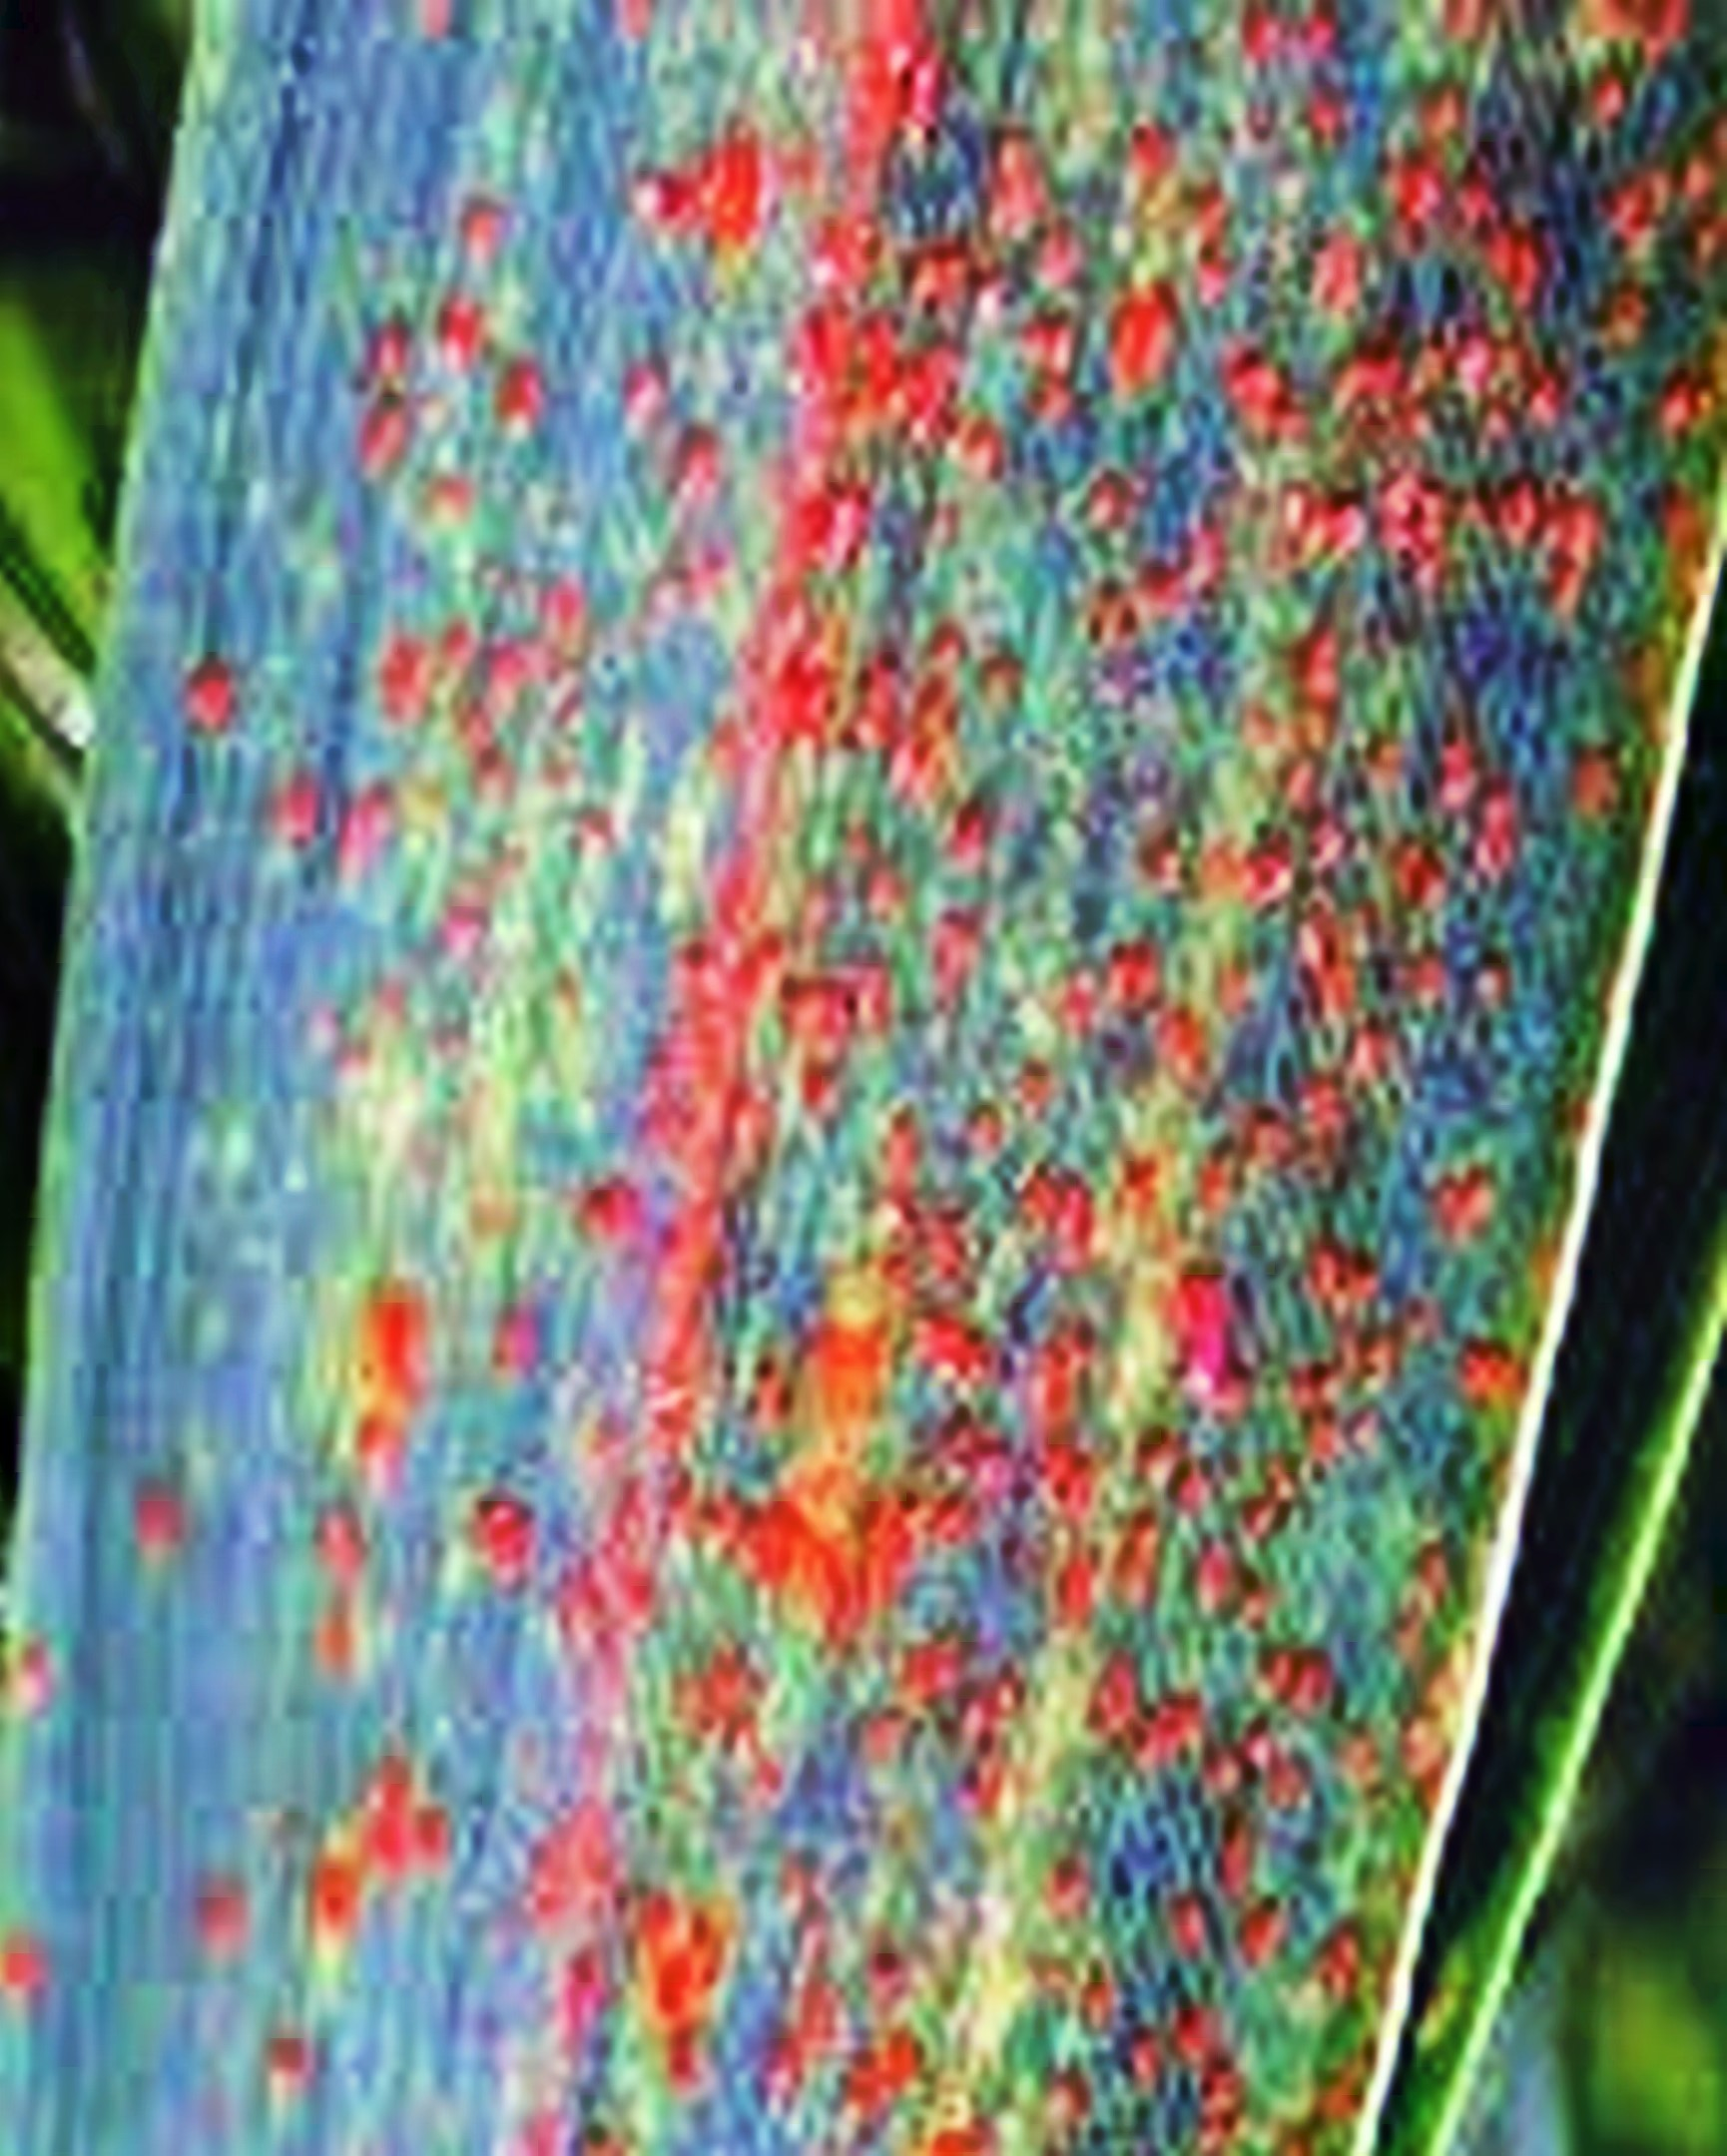Leaf Rust: (203, 144, 1553, 2070)
